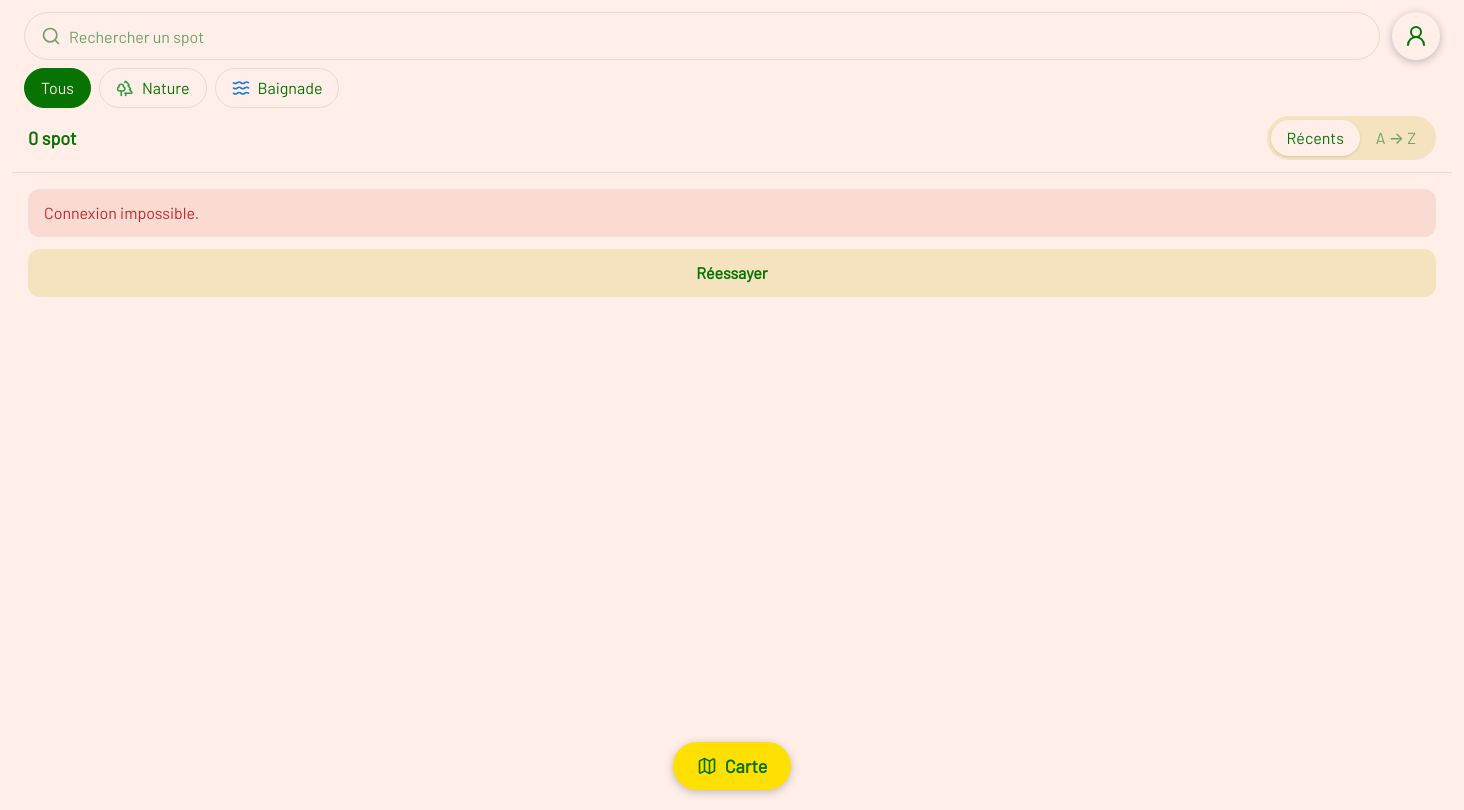
ListScreen › affiche l'erreur et permet de réessayer
The image size is (1464, 810).
Expected: the message reads "Connexion impossible.", [44, 203, 199, 222]
Click the button "Réessayer": [732, 273] box [28, 249, 1436, 297]
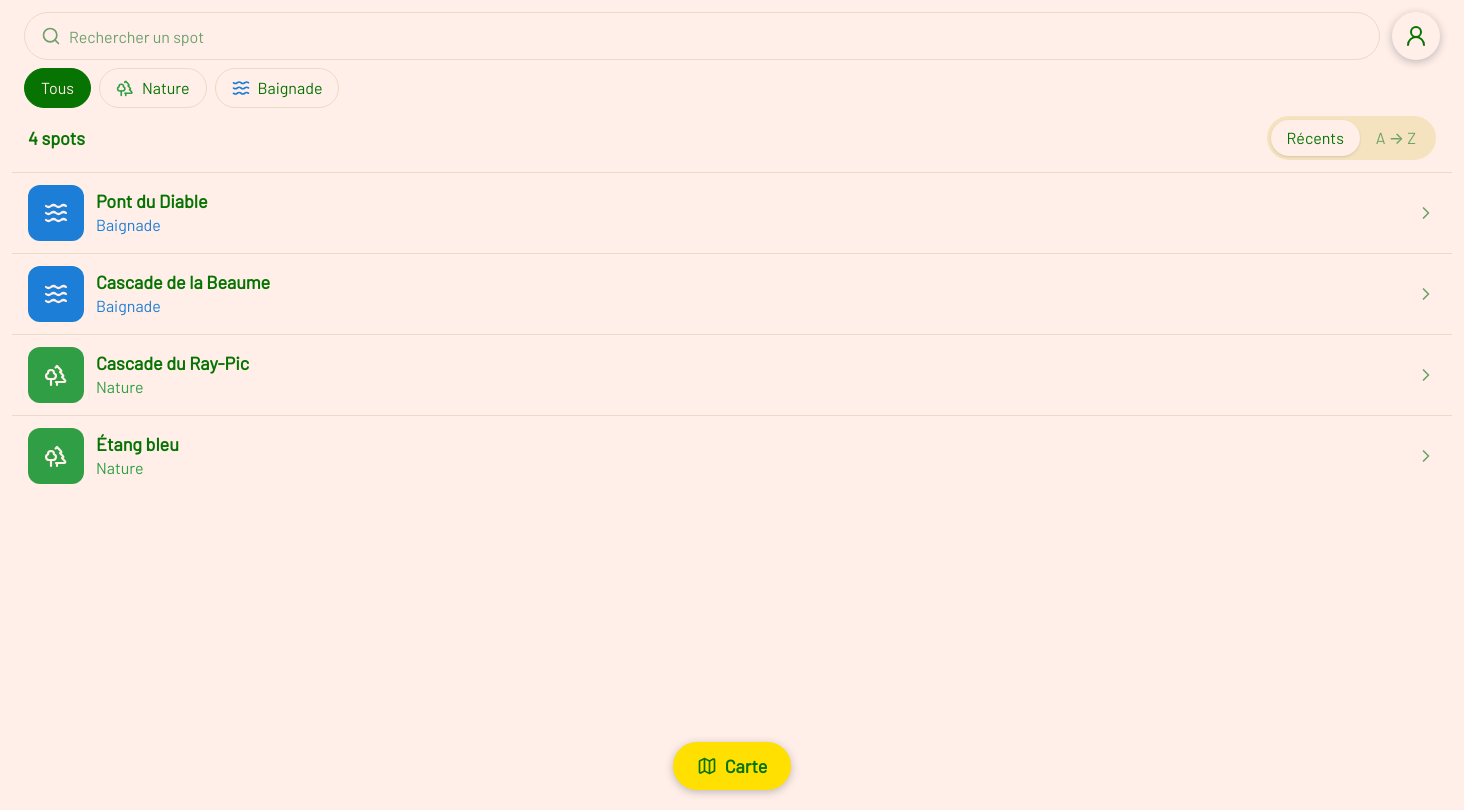
Expected: the heading "4 spots" is shown, [28, 124, 85, 152]
